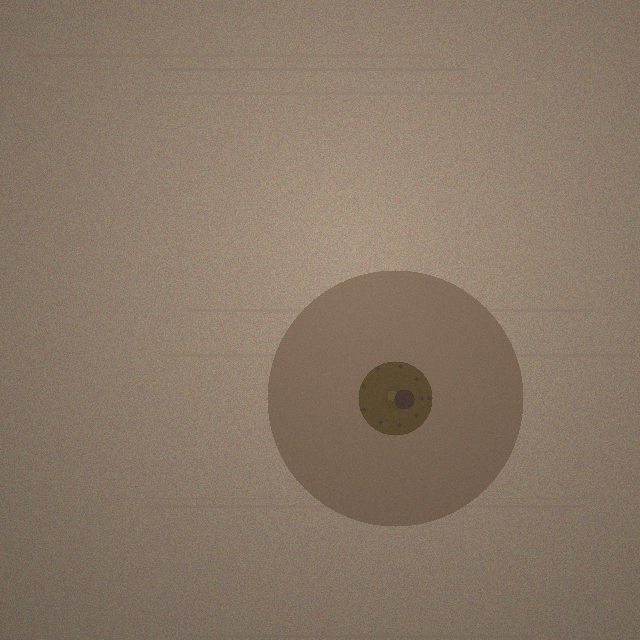cold_weld: (267, 270, 523, 526)
